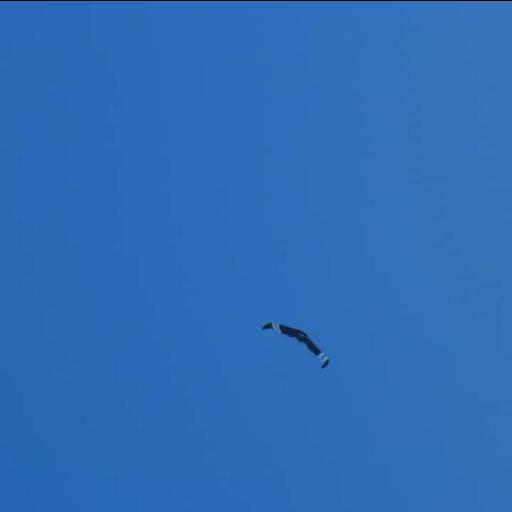uav: (258, 319, 338, 369)
